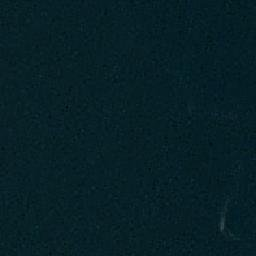debris: (217, 200, 237, 241)
